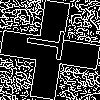T: (25, 25, 75, 62)
